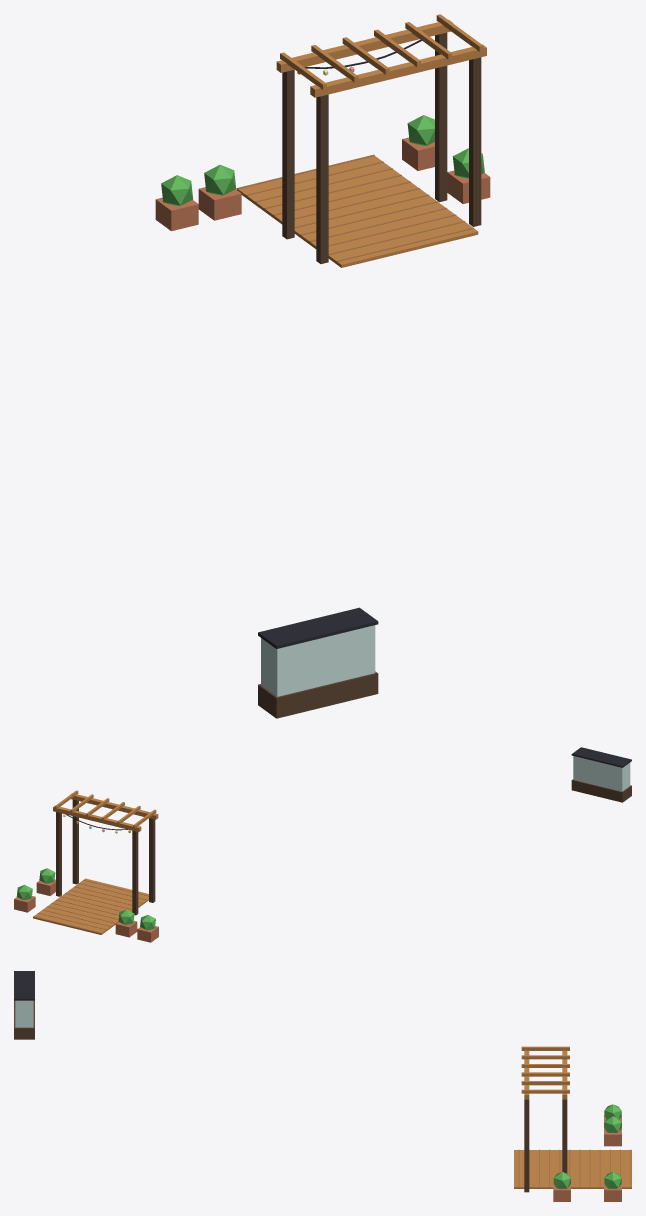
The model's file is CatCafe_Plot_Tier4_52x40.glb.
3 renders of one model, top to bottom at view 1: azimuth 30°, elevation 25°; view 2: azimuth 150°, elevation 25°; view 3: azimuth 270°, elevation 25°, orthographic. The views are drawn at different scales.
Visible parts, largest first — view 1: CatCafe_Plot_Tier4_52x40, CatCafe_Plot_Tier4_52x40_Glass; view 2: CatCafe_Plot_Tier4_52x40, CatCafe_Plot_Tier4_52x40_Glass; view 3: CatCafe_Plot_Tier4_52x40, CatCafe_Plot_Tier4_52x40_Glass.
Part boxes in pixels (box(x1,y1,x2,y2)): CatCafe_Plot_Tier4_52x40: box(155, 14, 490, 718); CatCafe_Plot_Tier4_52x40_Glass: box(261, 625, 375, 696); CatCafe_Plot_Tier4_52x40: box(14, 747, 631, 942); CatCafe_Plot_Tier4_52x40_Glass: box(573, 756, 630, 791); CatCafe_Plot_Tier4_52x40: box(14, 971, 631, 1201); CatCafe_Plot_Tier4_52x40_Glass: box(15, 1000, 33, 1027).
Bounding box in the file's own units: 35.52 × 8.85 × 48.75.
Materials: 1 (1 with a texture image).
